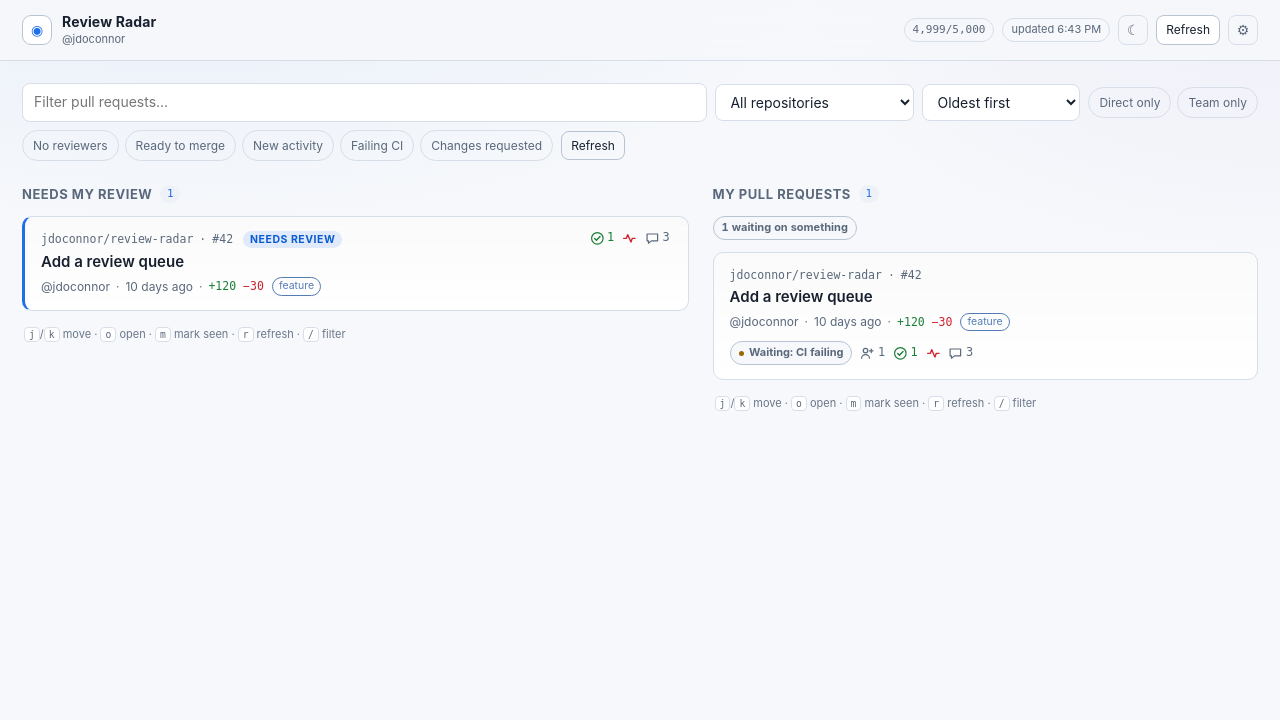
Scenario: cache settings › reports how many responses are cached
Expected: the element with test id "review-queue" is shown, [22,185,689,343]
Click the button with test id "open-settings". click: (1243, 30)
box: [1228,15,1258,45]
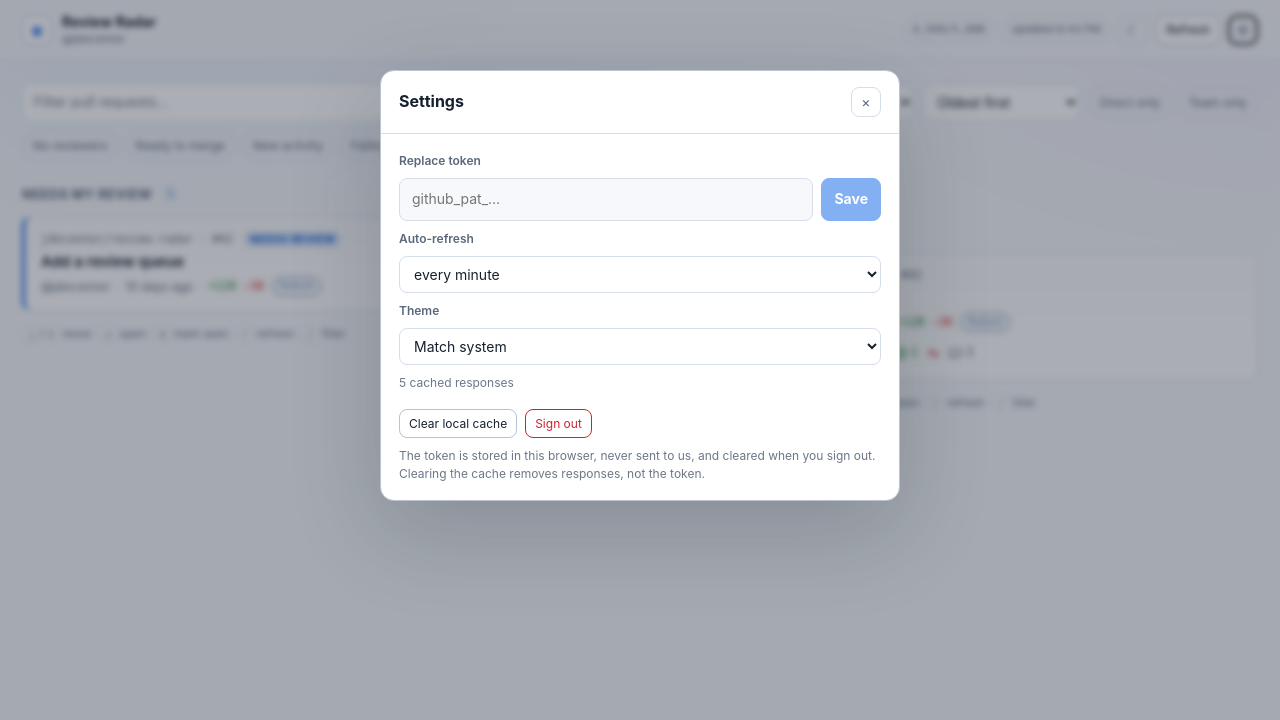
Now the text with test id "cache-stats" reads "5 cached responses", box [399,376,514,390]
